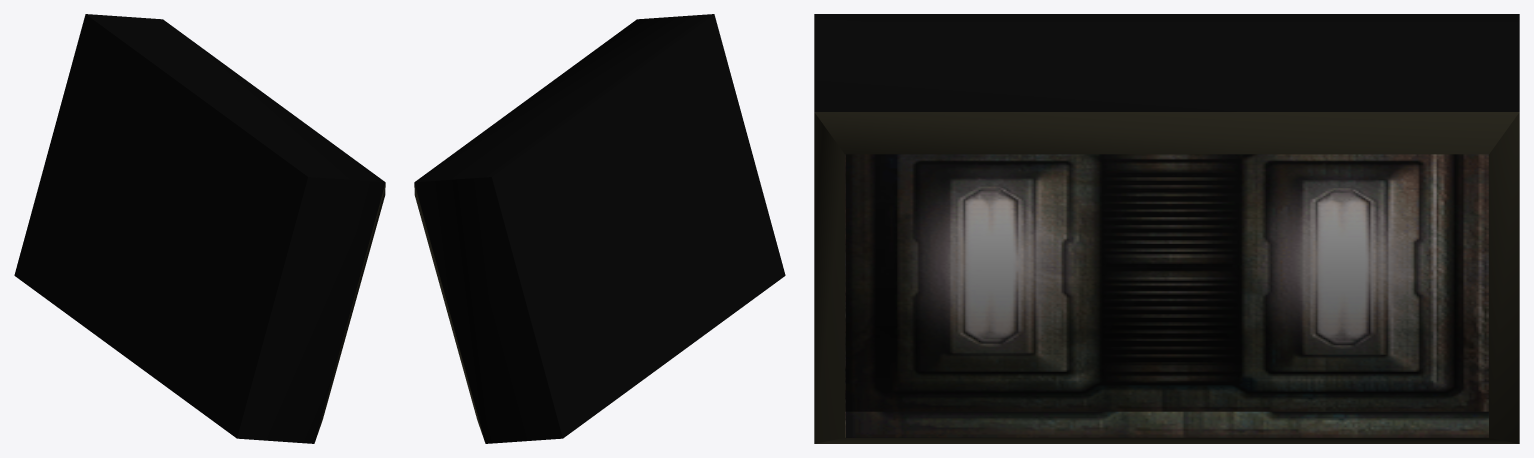
File: licht2.obj
3 views of the same model, side by side, from view 1: azimuth 30°, elevation 25°; view 2: azimuth 150°, elevation 25°; view 3: azimuth 270°, elevation 25° (orthographic). The views are drawn at different scales.
Parts seen in each view (by area): view 1: Group; view 2: Group; view 3: Group.
Boxes of the visible parts, x1=… form: Group: x1=14, y1=14, x2=385, y2=443; Group: x1=414, y1=14, x2=785, y2=443; Group: x1=814, y1=14, x2=1519, y2=443.
Size of the model in its own units: 12.24 by 19.88 by 29.88.
